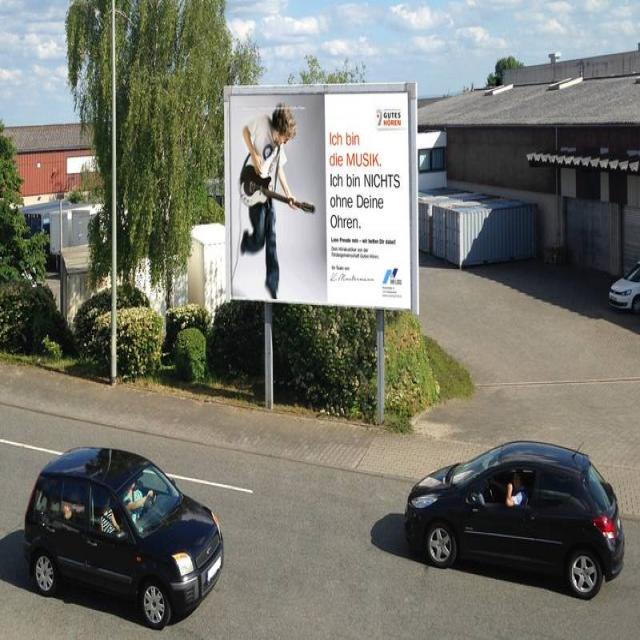Werbetafel frei: (222, 83, 423, 319)
